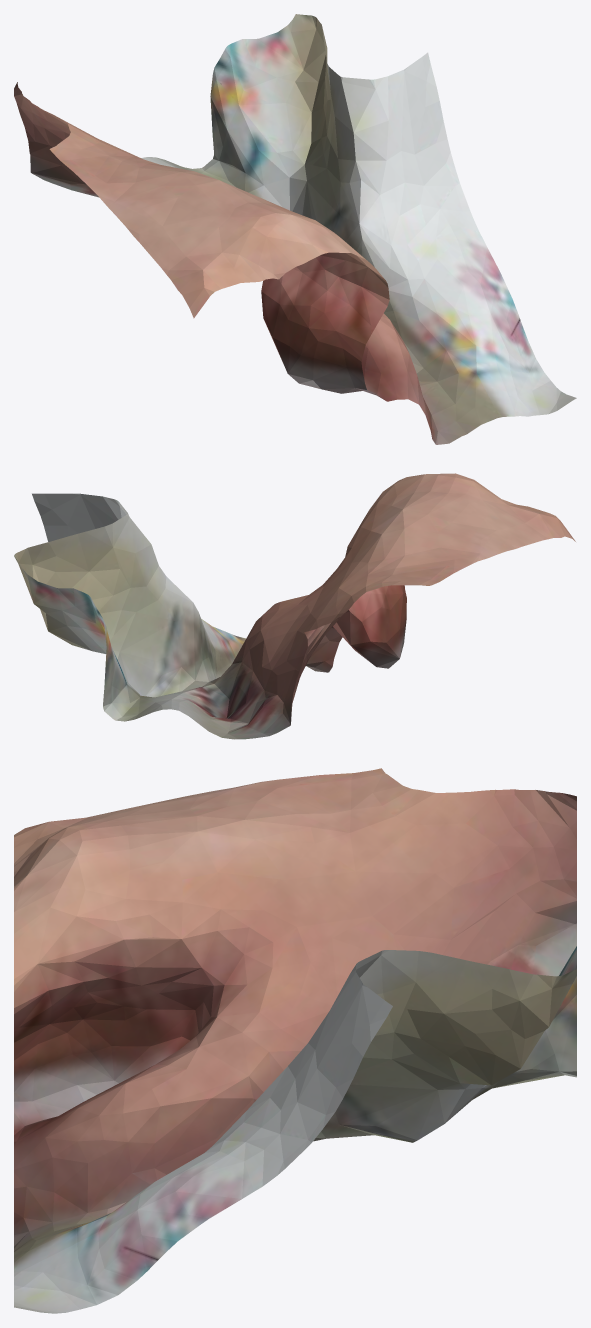
3 renders of one model, top to bottom at view 1: azimuth 30°, elevation 25°; view 2: azimuth 150°, elevation 25°; view 3: azimuth 270°, elevation 25°, orthographic. The views are drawn at different scales.
Parts seen in each view (by area): view 1: 091_W_Aya_100K_01; view 2: 091_W_Aya_100K_01; view 3: 091_W_Aya_100K_01.
Boxes of the visible parts, x1=… form: 091_W_Aya_100K_01: x1=14, y1=14, x2=576, y2=444; 091_W_Aya_100K_01: x1=14, y1=473, x2=575, y2=739; 091_W_Aya_100K_01: x1=14, y1=768, x2=576, y2=1313.
Size of the model in its own units: 85.74 by 53.71 by 85.74.
1 material, 1 textured.
